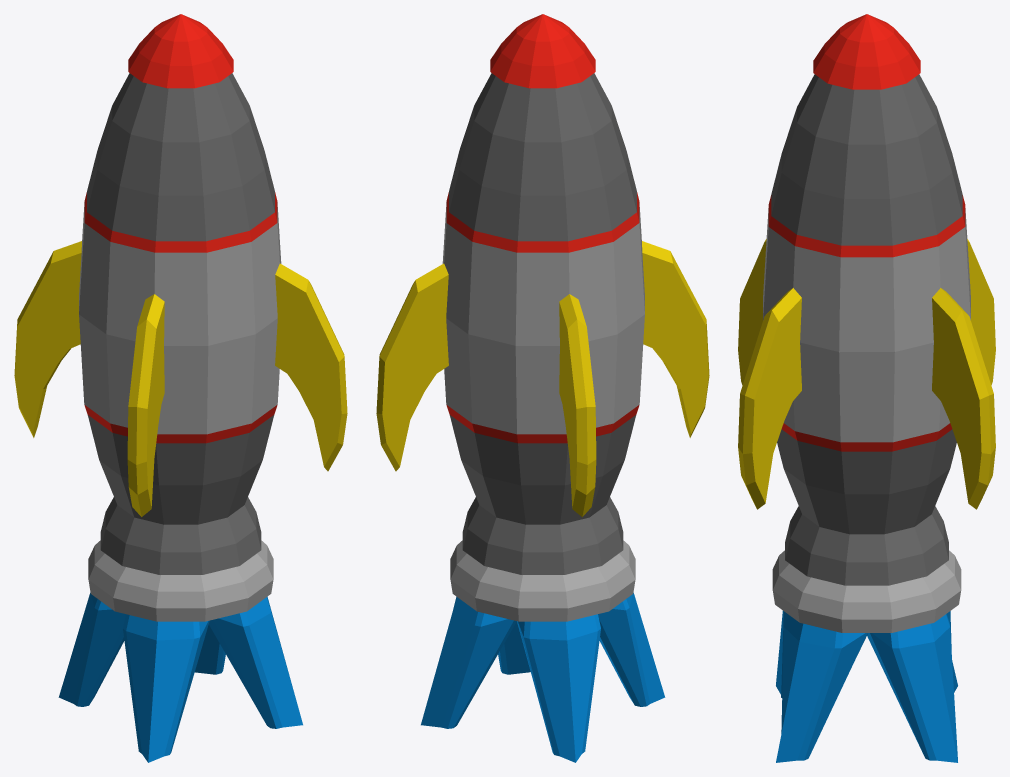
The model's file is Rocket.fbx.
3 renders of one model, left to right at view 1: azimuth 30°, elevation 25°; view 2: azimuth 150°, elevation 25°; view 3: azimuth 270°, elevation 25°, orthographic.
Parts seen in each view (by area): view 1: Rocket; view 2: Rocket; view 3: Rocket.
Part boxes in pixels (x1=…): Rocket: x1=14, y1=14, x2=347, y2=762; Rocket: x1=376, y1=14, x2=709, y2=762; Rocket: x1=738, y1=14, x2=995, y2=762.
Size of the model in its own units: 40.45 by 123 by 40.45.
